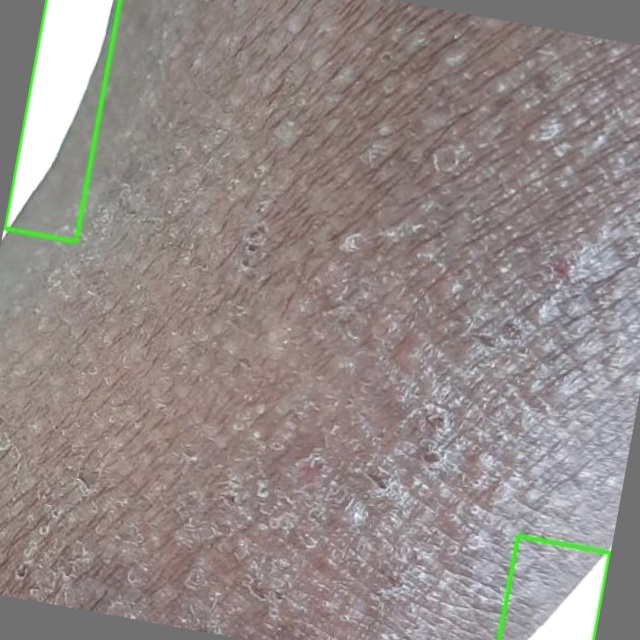Contact Dermatitis: (4, 0, 120, 242), (499, 536, 610, 639)
